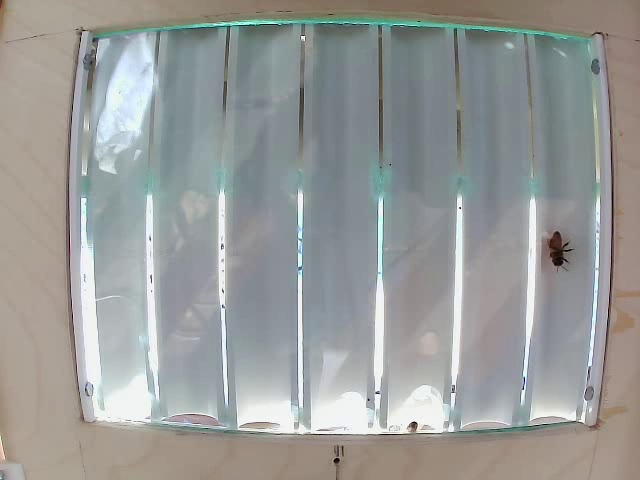bee: (547, 235, 577, 284)
